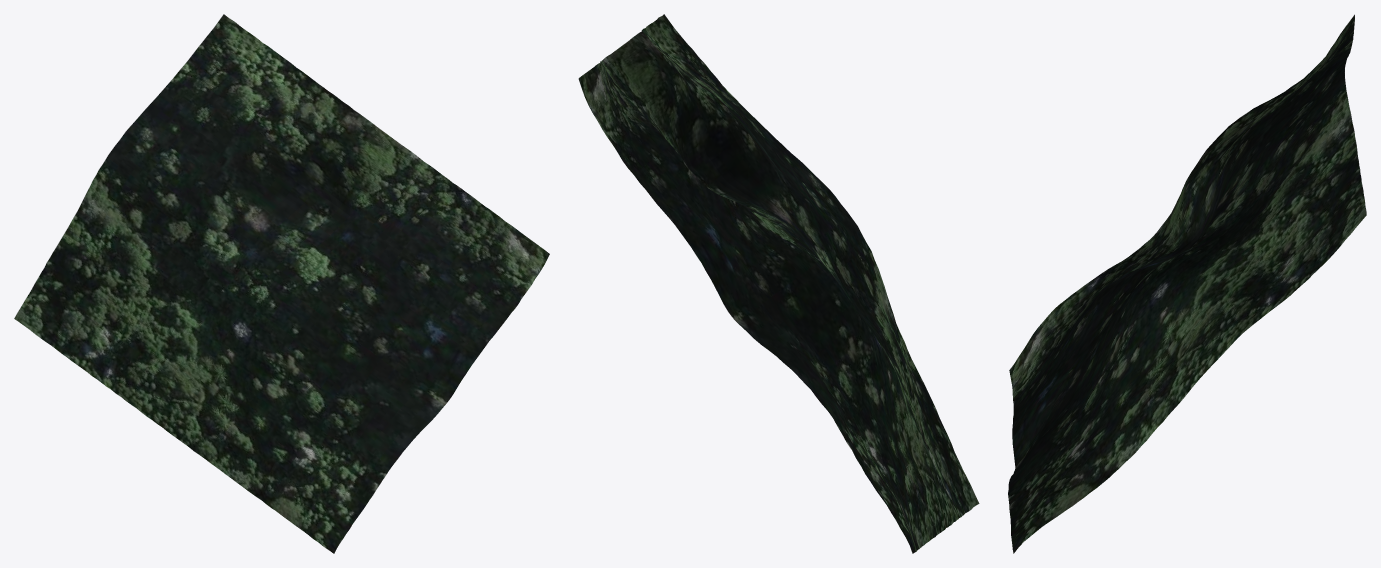
3 views of the same model, side by side, from view 1: azimuth 30°, elevation 25°; view 2: azimuth 150°, elevation 25°; view 3: azimuth 270°, elevation 25° (orthographic). The views are drawn at different scales.
Bounding box in the file's own units: 348 × 366 × 215.
1 material, 1 textured.
